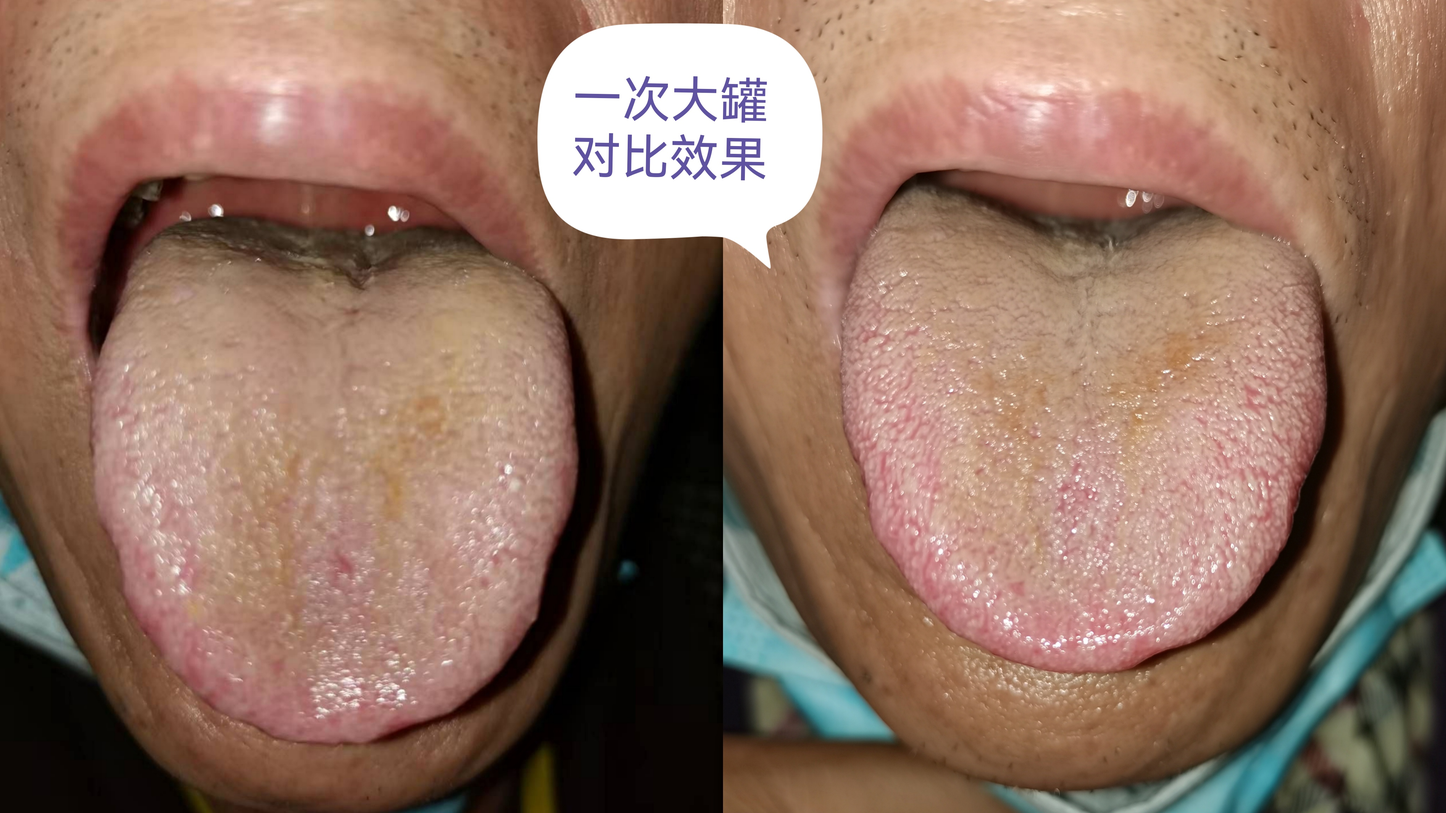huangtaishe: (93, 218, 579, 745), (840, 180, 1327, 679)
